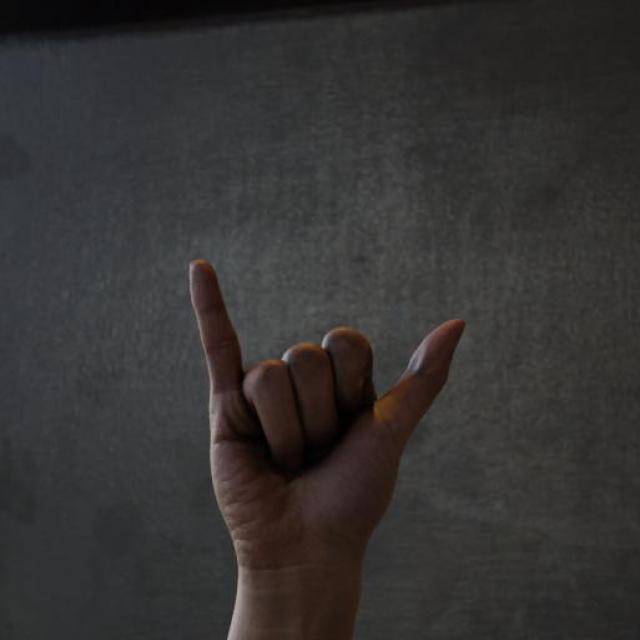Y: (182, 253, 468, 575)
